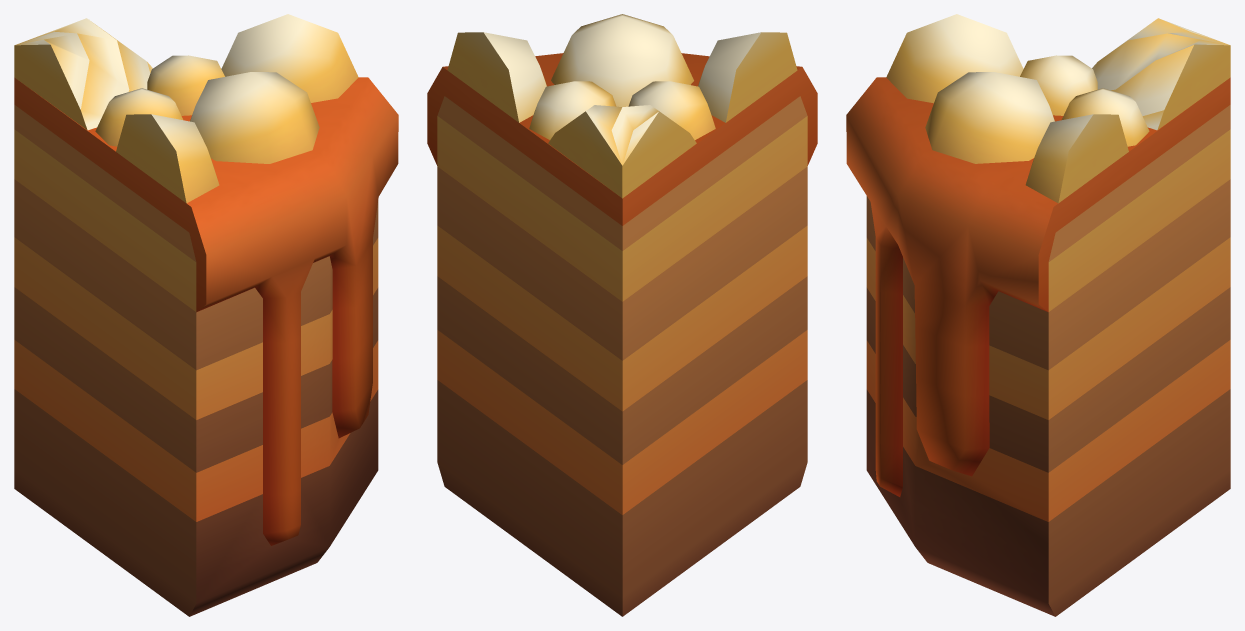
The model's file is m_ToffeeCake01_Slice01.fbx.
The picture shows the model from 3 angles, left to right: view 1: azimuth 30°, elevation 25°; view 2: azimuth 150°, elevation 25°; view 3: azimuth 270°, elevation 25°; orthographic projection.
Visible parts, largest first — view 1: m_ToffeeCake01_Slice01; view 2: m_ToffeeCake01_Slice01; view 3: m_ToffeeCake01_Slice01.
Part boxes in pixels (<box>): m_ToffeeCake01_Slice01: <box>14,14,398,616</box>; m_ToffeeCake01_Slice01: <box>427,14,817,616</box>; m_ToffeeCake01_Slice01: <box>846,14,1230,616</box>.
Bounding box in the file's own units: 9.67 × 15.23 × 11.17.
